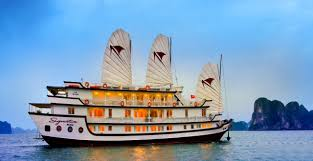tau_dansu: (33, 47, 233, 143)
